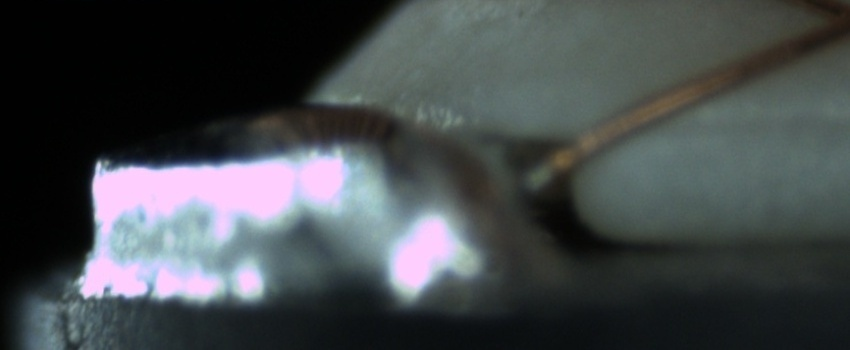CL: (808, 1, 850, 44)
DL: (636, 86, 846, 161)
